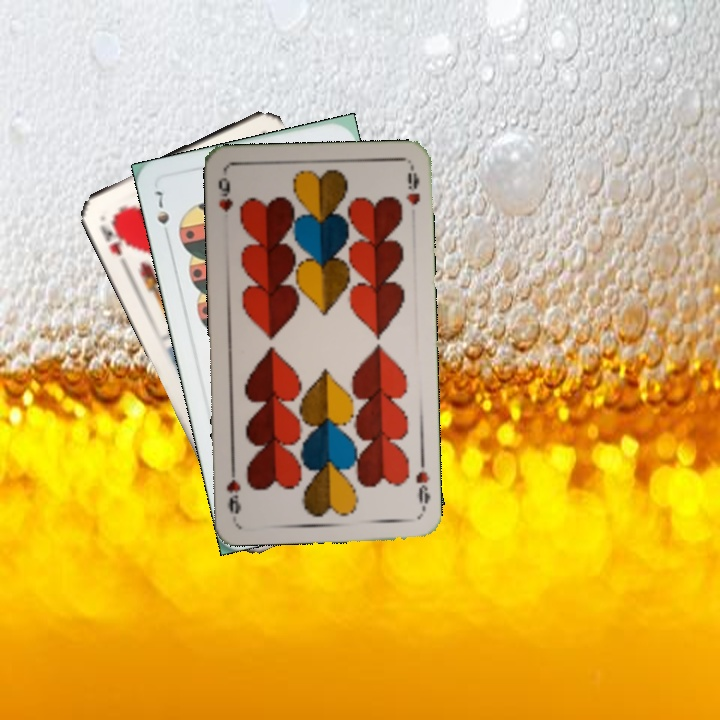H9: (412, 455, 433, 514), (214, 173, 236, 214)
HK: (95, 211, 131, 258)
S7: (151, 186, 172, 227)
